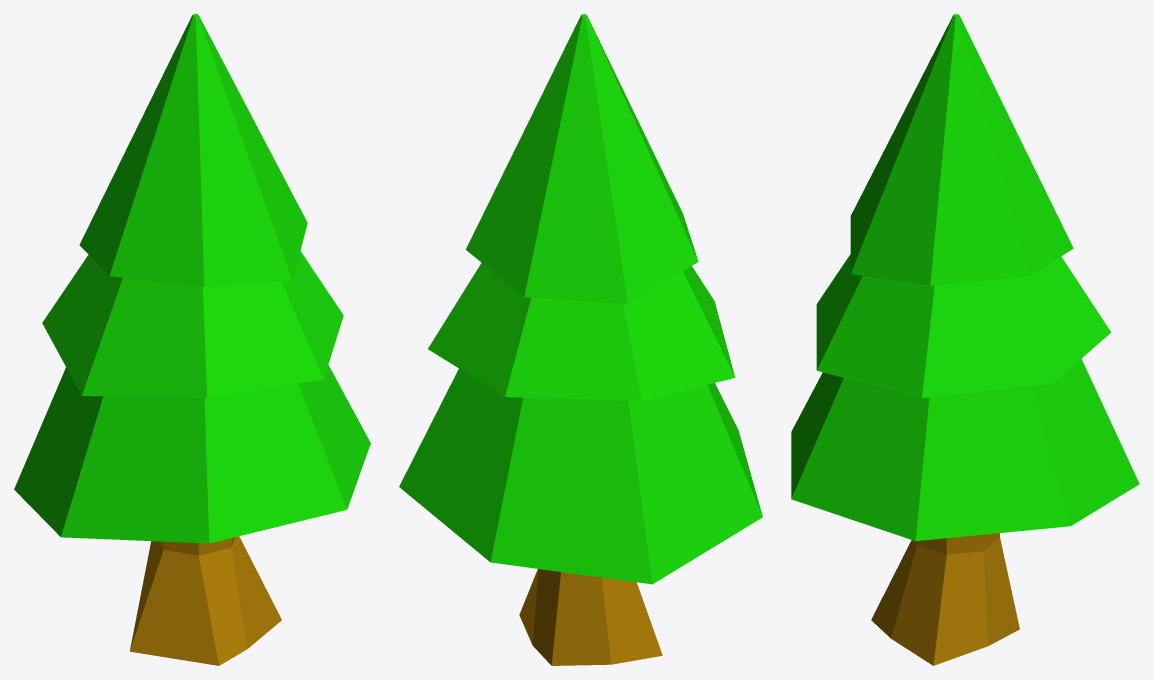
The model's file is tree.fbx.
The picture shows the model from 3 angles, left to right: view 1: azimuth 30°, elevation 25°; view 2: azimuth 150°, elevation 25°; view 3: azimuth 270°, elevation 25°; orthographic projection. The views are drawn at different scales.
Visible parts, largest first — view 1: Cylinder.001, Cylinder; view 2: Cylinder.001, Cylinder; view 3: Cylinder.001, Cylinder.
Boxes of the visible parts, <box> form: Cylinder.001: <box>14,14,370,543</box>; Cylinder: <box>130,536,281,665</box>; Cylinder.001: <box>399,14,762,584</box>; Cylinder: <box>519,569,662,665</box>; Cylinder.001: <box>791,14,1139,541</box>; Cylinder: <box>871,533,1019,665</box>.
Size of the model in its own units: 701 by 1328 by 683.
